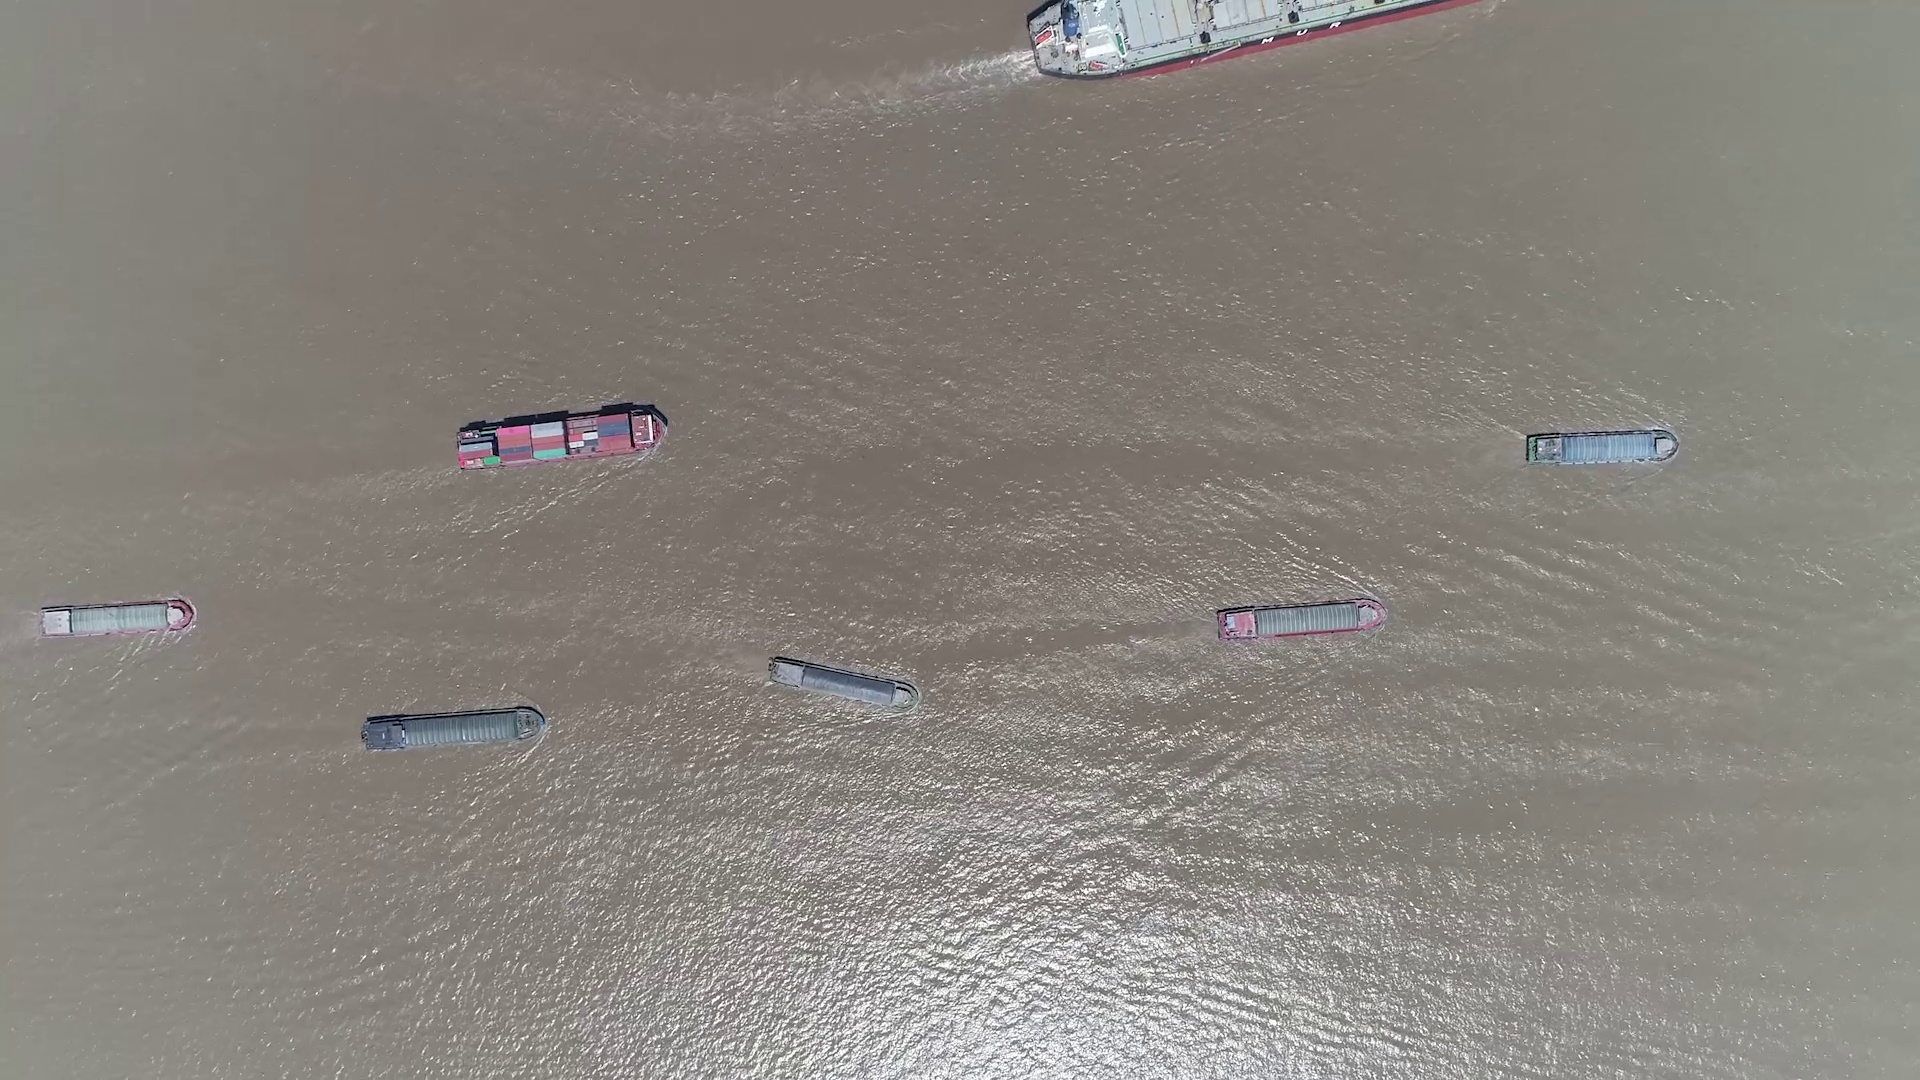ship: (1025, 3, 1481, 84), (454, 405, 666, 469), (767, 654, 919, 711), (361, 705, 547, 752), (1217, 597, 1389, 642), (38, 601, 194, 637), (1526, 430, 1677, 465)
